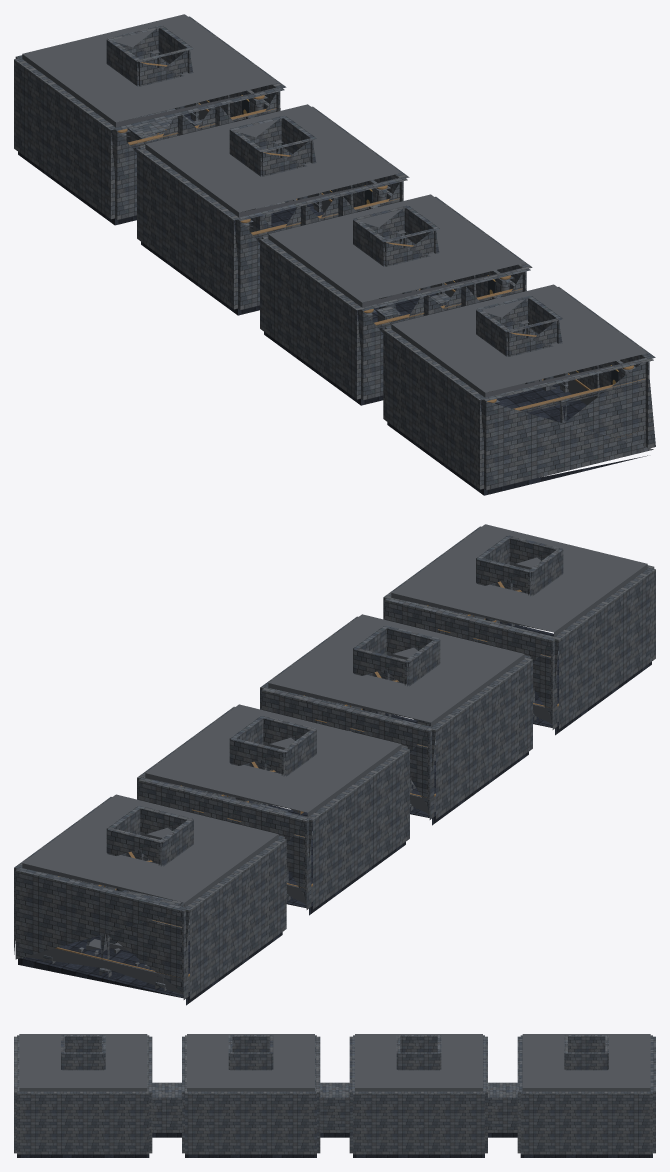
Rendered from architecture.glb.
3 views of the same model, one above another, from view 1: azimuth 30°, elevation 25°; view 2: azimuth 150°, elevation 25°; view 3: azimuth 270°, elevation 25° (orthographic). The views are drawn at different scales.
Visible parts, largest first — view 1: Architecture; view 2: Architecture; view 3: Architecture.
Part boxes in pixels (bbox=[...]): Architecture: bbox=[14, 14, 655, 495]; Architecture: bbox=[14, 524, 655, 1005]; Architecture: bbox=[14, 1034, 655, 1157].
Size of the model in its own units: 13.2 by 9.02 by 61.2.
6 materials, 2 textured.
